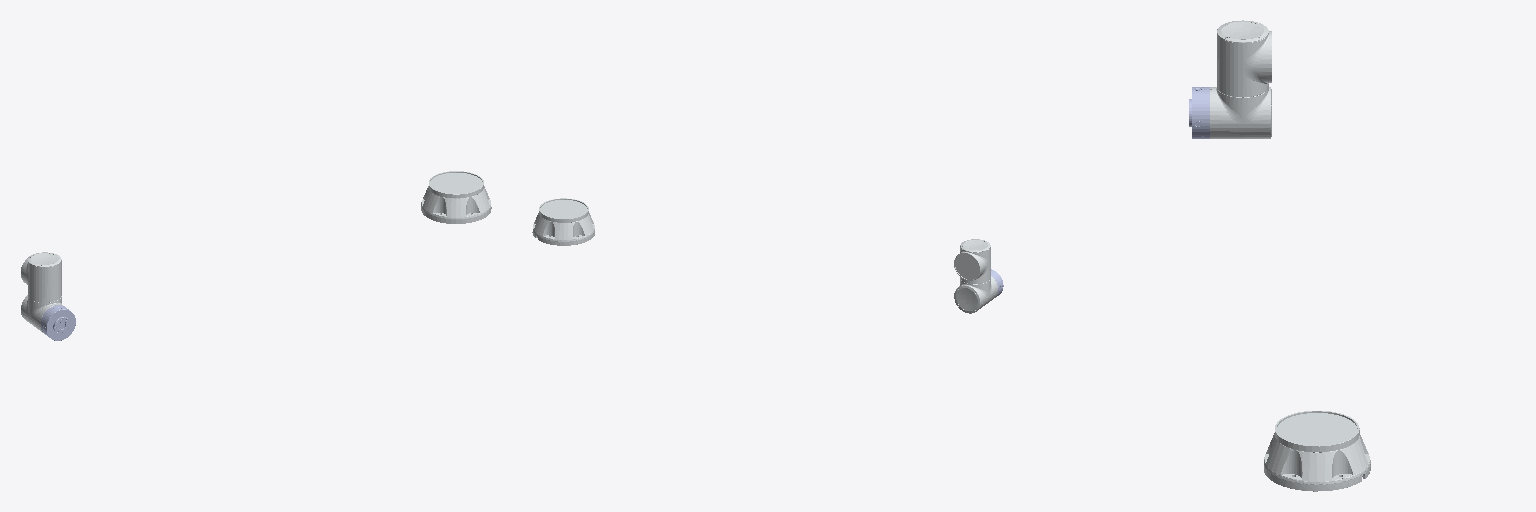
robot.urdf — fr20v6:
<robot name="fr20v6">

  <link name="world"/>

  <joint name="world_to_base" type="fixed">
    <parent link="world"/>
    <child link="base_link"/>
    <origin xyz="0 0 0" rpy="0 0 0"/>
  </joint>
<link
    name="base_link">
    <inertial>
      <origin
        xyz="-2.1681E-05 -6.0648E-05 0.043457"
        rpy="0 0 0" />
      <mass
        value="9.2502" />
      <inertia
        ixx="0.034499"
        ixy="1.6641E-05"
        ixz="-7.478E-06"
        iyy="0.034518"
        iyz="-2.0849E-05"
        izz="0.05496" />
    </inertial>
    <visual>
      <origin
        xyz="0 0 0"
        rpy="0 0 0" />
      <geometry>
        <mesh
          filename="package://fr20v6_ros2_control/meshes/fr20/visual-v6.0/base_link.DAE" />
      </geometry>
      <material
        name="">
        <color
          rgba="0.89804 0.91765 0.92941 1" />
      </material>
    </visual>
    <collision>
      <origin
        xyz="0 0 0"
        rpy="0 0 0" />
      <geometry>
        <mesh
          filename="package://fr20v6_ros2_control/meshes/fr20/collision-v6.0/base_link.STL" />
      </geometry>
    </collision>
  </link>
  <link
    name="j1_Link">
    <inertial>
      <origin
        xyz="-0.00019 -0.03657 0.00568"
        rpy="0 0 0" />
      <mass
        value="20.79" />
      <inertia
        ixx="0.11681303"
        ixy="0.000010684"
        ixz="0.00015198"
        iyy="0.09147711"
        iyz="0.00458985"
        izz="0.11321598" />
    </inertial>
    <visual>
      <origin
        xyz="0 0 0"
        rpy="0 0 0" />
      <geometry>
        <mesh
          filename="package://fr20v6_ros2_control/meshes/fr20/visual-v6.0/j1_Link.DAE" />
      </geometry>
      <material
        name="">
        <color
          rgba="0.89804 0.91765 0.92941 1" />
      </material>
    </visual>
    <collision>
      <origin
        xyz="0 0 0"
        rpy="0 0 0" />
      <geometry>
        <mesh
          filename="package://fr20v6_ros2_control/meshes/fr20/collision-v6.0/j1_Link.STL" />
      </geometry>
    </collision>
  </link>
  <joint
    name="j1"
    type="revolute">
    <origin
      xyz="0 0 0"
      rpy="0 0 0" />
    <parent
      link="base_link" />
    <child
      link="j1_Link" />
    <axis
      xyz="0 0 1" />
    <limit
      lower="-3.0543"
      upper="3.0543"
      effort="1400"
      velocity="3.15" />
    <calibration
      rising="0"
      falling="0" />
    <dynamics
      damping="0"
      friction="0" />
    <safety_controller
      soft_upper="0"
      soft_lower="0"
      k_position="0"
      k_velocity="0" />
  </joint>
  <link
    name="j2_Link">
    <inertial>
      <origin
        xyz="0.60525 0.00006 0.20294"
        rpy="0 0 0" />
      <mass
        value="42.84" />
      <inertia
        ixx="0.21509702"
        ixy="0.00193218"
        ixz="0.11070934"
        iyy="8.34192406"
        iyz="0.00005317"
        izz="8.29611691" />
    </inertial>
    <visual>
      <origin
        xyz="0 0 0"
        rpy="0 0 0" />
      <geometry>
        <mesh
          filename="package://fr20v6_ros2_control/meshes/fr20/visual-v6.0/j2_Link.DAE" />
      </geometry>
      <material
        name="">
        <color
          rgba="0.89804 0.91765 0.92941 1" />
      </material>
    </visual>
    <collision>
      <origin
        xyz="0 0 0"
        rpy="0 0 0" />
      <geometry>
        <mesh
          filename="package://fr20v6_ros2_control/meshes/fr20/collision-v6.0/j2_Link.STL" />
      </geometry>
    </collision>
  </link>
  <joint
    name="j2"
    type="revolute">
    <origin
      xyz="0 0 0.215"
      rpy="1.5708 0 0" />
    <parent
      link="j1_Link" />
    <child
      link="j2_Link" />
    <axis
      xyz="0 0 1" />
    <limit
      lower="-4.6251"
      upper="1.4835"
      effort="1400"
      velocity="3.15" />
    <calibration
      rising="0"
      falling="0" />
    <dynamics
      damping="0"
      friction="0" />
    <safety_controller
      soft_upper="0"
      soft_lower="0"
      k_position="0"
      k_velocity="0" />
  </joint>
  <link
    name="j3_Link">
    <inertial>
      <origin
        xyz="0.26284 0.00022 0.04308"
        rpy="0 0 0" />
      <mass
        value="9.88" />
      <inertia
        ixx="0.03036772"
        ixy="0.00023857"
        ixz="0.00627398"
        iyy="0.86016899"
        iyz="0.00000777"
        izz="0.85782697" />
    </inertial>
    <visual>
      <origin
        xyz="0 0 0"
        rpy="0 0 0" />
      <geometry>
        <mesh
          filename="package://fr20v6_ros2_control/meshes/fr20/visual-v6.0/j3_Link.DAE" />
      </geometry>
      <material
        name="">
        <color
          rgba="0.89804 0.91765 0.92941 1" />
      </material>
    </visual>
    <collision>
      <origin
        xyz="0 0 0"
        rpy="0 0 0" />
      <geometry>
        <mesh
          filename="package://fr20v6_ros2_control/meshes/fr20/collision-v6.0/j3_Link.STL" />
      </geometry>
    </collision>
  </link>
  <joint
    name="j3"
    type="revolute">
    <origin
      xyz="-1 0 0"
      rpy="0 0 0" />
    <parent
      link="j2_Link" />
    <child
      link="j3_Link" />
    <axis
      xyz="0 0 1" />
    <limit
      lower="-2.8274"
      upper="2.8274"
      effort="635"
      velocity="3.15" />
    <calibration
      rising="0"
      falling="0" />
    <dynamics
      damping="0"
      friction="0" />
    <safety_controller
      soft_upper="0"
      soft_lower="0"
      k_position="0"
      k_velocity="0" />
  </joint>
  <link
    name="j4_Link">
    <inertial>
      <origin
        xyz="0.00023 -0.00228 0.01842"
        rpy="0 0 0" />
      <mass
        value="4.64" />
      <inertia
        ixx="0.00933772"
        ixy="0.00003325"
        ixz="0.00005007"
        iyy="0.00926897"
        iyz="0.00021949"
        izz="0.00774545" />
    </inertial>
    <visual>
      <origin
        xyz="0 0 0"
        rpy="0 0 0" />
      <geometry>
        <mesh
          filename="package://fr20v6_ros2_control/meshes/fr20/visual-v6.0/j4_Link.DAE" />
      </geometry>
      <material
        name="">
        <color
          rgba="0.89804 0.91765 0.92941 1" />
      </material>
    </visual>
    <collision>
      <origin
        xyz="0 0 0"
        rpy="0 0 0" />
      <geometry>
        <mesh
          filename="package://fr20v6_ros2_control/meshes/fr20/collision-v6.0/j4_Link.STL" />
      </geometry>
    </collision>
  </link>
  <joint
    name="j4"
    type="revolute">
    <origin
      xyz="-0.716 0 0"
      rpy="0 0 0" />
    <parent
      link="j3_Link" />
    <child
      link="j4_Link" />
    <axis
      xyz="0 0 1" />
    <limit
      lower="-4.6251"
      upper="1.4835"
      effort="332"
      velocity="3.2" />
    <calibration
      rising="0"
      falling="0" />
    <dynamics
      damping="0"
      friction="0" />
    <safety_controller
      soft_upper="0"
      soft_lower="0"
      k_position="0"
      k_velocity="0" />
  </joint>
  <link
    name="j5_Link">
    <inertial>
      <origin
        xyz="-0.00023 0.00228 0.01842"
        rpy="0 0 0" />
      <mass
        value="4.64" />
      <inertia
        ixx="0.00933772"
        ixy="0.00003325"
        ixz="-0.00005007"
        iyy="0.00926897"
        iyz="-0.00021949"
        izz="0.00774545" />
    </inertial>
    <visual>
      <origin
        xyz="0 0 0"
        rpy="0 0 0" />
      <geometry>
        <mesh
          filename="package://fr20v6_ros2_control/meshes/fr20/visual-v6.0/j5_Link.DAE" />
      </geometry>
      <material
        name="">
        <color
          rgba="0.89804 0.91765 0.92941 1" />
      </material>
    </visual>
    <collision>
      <origin
        xyz="0 0 0"
        rpy="0 0 0" />
      <geometry>
        <mesh
          filename="package://fr20v6_ros2_control/meshes/fr20/collision-v6.0/j5_Link.STL" />
      </geometry>
    </collision>
  </link>
  <joint
    name="j5"
    type="revolute">
    <origin
      xyz="0 0 0.16601"
      rpy="1.5708 0 0" />
    <parent
      link="j4_Link" />
    <child
      link="j5_Link" />
    <axis
      xyz="0 0 1" />
    <limit
      lower="-3.0543"
      upper="3.0543"
      effort="332"
      velocity="3.2" />
    <calibration
      rising="0"
      falling="0" />
    <dynamics
      damping="0"
      friction="0" />
    <safety_controller
      soft_upper="0"
      soft_lower="0"
      k_position="0"
      k_velocity="0" />
  </joint>
  <link
    name="j6_Link">
    <inertial>
      <origin
        xyz="-0.00211 -0.00196 -0.02038"
        rpy="0 0 0" />
      <mass
        value="0.6" />
      <inertia
        ixx="0.00071709"
        ixy="0.00000175"
        ixz="0.00000555"
        iyy="0.00071408"
        iyz="0.00000531"
        izz="0.00127558" />
    </inertial>
    <visual>
      <origin
        xyz="0 0 0"
        rpy="0 0 0" />
      <geometry>
        <mesh
          filename="package://fr20v6_ros2_control/meshes/fr20/visual-v6.0/j6_Link.DAE" />
      </geometry>
      <material
        name="">
        <color
          rgba="0.79216 0.81961 0.93333 1" />
      </material>
    </visual>
    <collision>
      <origin
        xyz="0 0 0"
        rpy="0 0 0" />
      <geometry>
        <mesh
          filename="package://fr20v6_ros2_control/meshes/fr20/collision-v6.0/j6_Link.STL" />
      </geometry>
    </collision>
  </link>
  <joint
    name="j6"
    type="revolute">
    <origin
      xyz="0 0 0.138"
      rpy="-1.5708 0 0" />
    <parent
      link="j5_Link" />
    <child
      link="j6_Link" />
    <axis
      xyz="0 0 1" />
    <limit
      lower="-3.0543"
      upper="3.0543"
      effort="332"
      velocity="3.2" />
    <calibration
      rising="0"
      falling="0" />
    <dynamics
      damping="0"
      friction="0" />
    <safety_controller
      soft_upper="0"
      soft_lower="0"
      k_position="0"
      k_velocity="0" />
  </joint>
  <ros2_control name="GazeboSystem" type="system">
    <hardware>
      <plugin>gazebo_ros2_control/GazeboSystem</plugin>
    </hardware>
    <joint name="j1"><command_interface name="position"/><state_interface name="position"/><state_interface name="velocity"/></joint>
    <joint name="j2"><command_interface name="position"/><state_interface name="position"/><state_interface name="velocity"/></joint>
    <joint name="j3"><command_interface name="position"/><state_interface name="position"/><state_interface name="velocity"/></joint>
    <joint name="j4"><command_interface name="position"/><state_interface name="position"/><state_interface name="velocity"/></joint>
    <joint name="j5"><command_interface name="position"/><state_interface name="position"/><state_interface name="velocity"/></joint>
    <joint name="j6"><command_interface name="position"/><state_interface name="position"/><state_interface name="velocity"/></joint>
  </ros2_control>

  <gazebo>
    <plugin name="gazebo_ros2_control" filename="libgazebo_ros2_control.so">
      <robot_param>robot_description</robot_param>
      <parameters>package://fr20v6_ros2_control/config/robot_params.yaml</parameters>
    </plugin>
  </gazebo>
  <gazebo>
    <plugin name="joint_state_publisher" filename="libgazebo_ros_joint_state_publisher.so">
      <ros>
        <namespace>fr20v6</namespace>
        <remapping>joint_states:=joint_states</remapping>
      </ros>
      <update_rate>100</update_rate>
      <joint_name>j1</joint_name>
      <joint_name>j2</joint_name>
      <joint_name>j3</joint_name>
      <joint_name>j4</joint_name>
      <joint_name>j5</joint_name>
      <joint_name>j6</joint_name>
    </plugin>
  </gazebo>

</robot>

--- Render facts (derived) ---
The picture shows the robot from 3 angles, left to right: view 1: azimuth 30°, elevation 25°; view 2: azimuth 150°, elevation 25°; view 3: azimuth 270°, elevation 25°; orthographic projection.
Robot: fr20v6 — 8 links, 7 joints (6 revolute, 1 fixed); root link world; default pose: every joint at zero.
Visible links, largest first — view 1: base_link, j4_Link, j6_Link, j5_Link; view 2: base_link, j4_Link, j5_Link; view 3: base_link, j4_Link, j5_Link, j6_Link.
Boxes of the visible links, box(x1,y1,x2,y2) form: base_link: box(421, 171, 491, 223); j4_Link: box(21, 252, 61, 302); j6_Link: box(41, 305, 75, 340); j5_Link: box(21, 295, 64, 332); base_link: box(532, 198, 594, 245); j4_Link: box(954, 239, 990, 283); j5_Link: box(954, 276, 997, 313); base_link: box(1264, 411, 1370, 491); j4_Link: box(1217, 20, 1271, 97); j5_Link: box(1210, 87, 1271, 138); j6_Link: box(1189, 87, 1209, 138).
Size in the robot's own frame: 1.89 by 0.406 by 0.2803 metres.
Meshes: 7 distinct files referenced, 4 mesh visuals loaded (4 Collada DAE); not drawn: 3 (reference not matched to a file when rendering).
